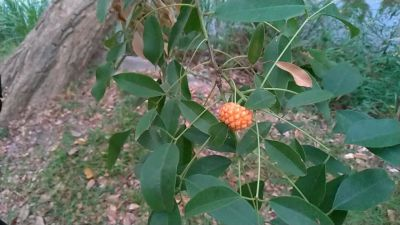eggs: (217, 99, 255, 130)
